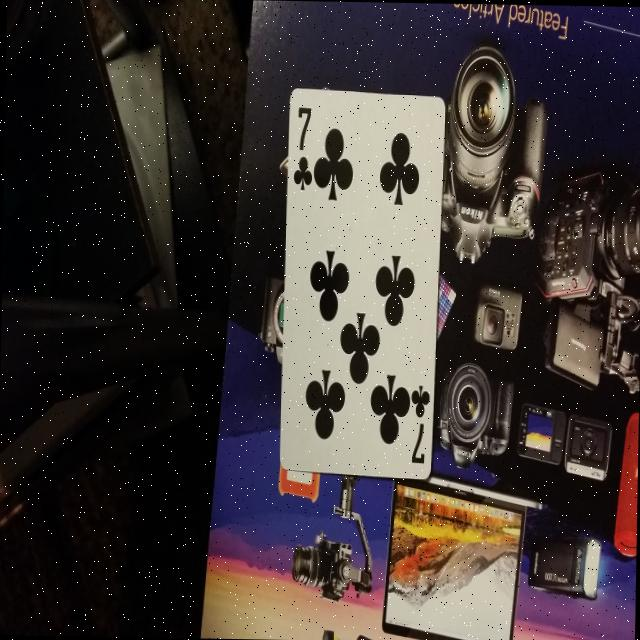7c: (402, 373, 432, 468), (290, 98, 316, 196)
